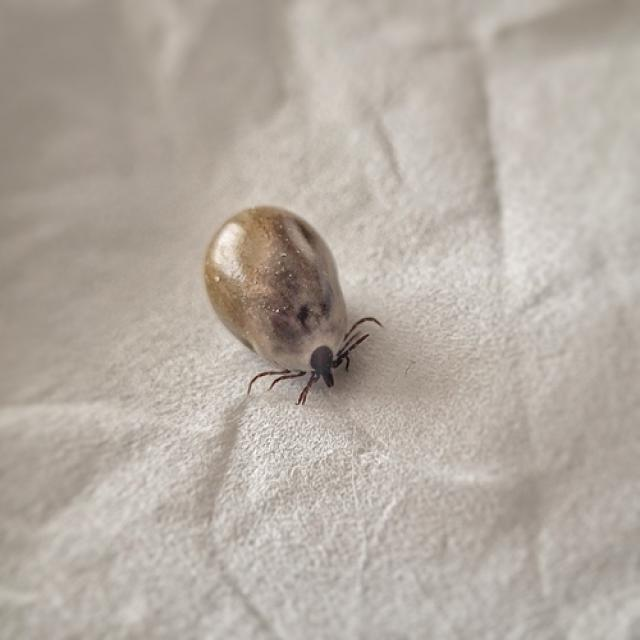Ixodes Ricinus-F-Fed: (201, 206, 381, 406)
